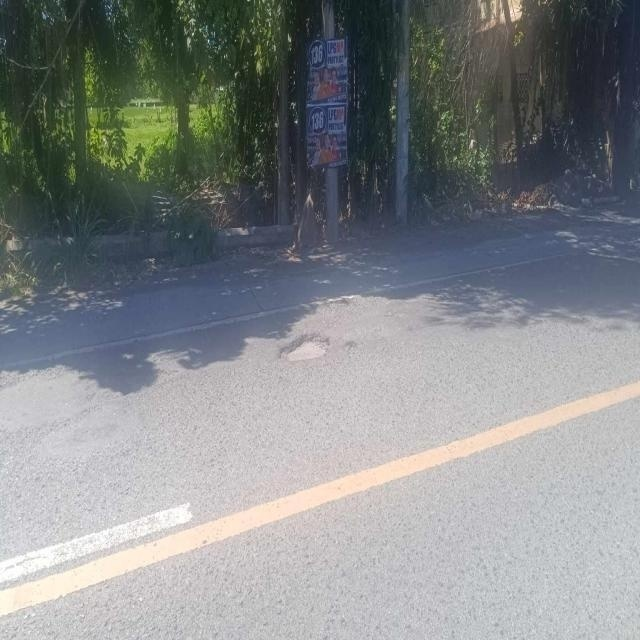pothole: (279, 305, 338, 379)
